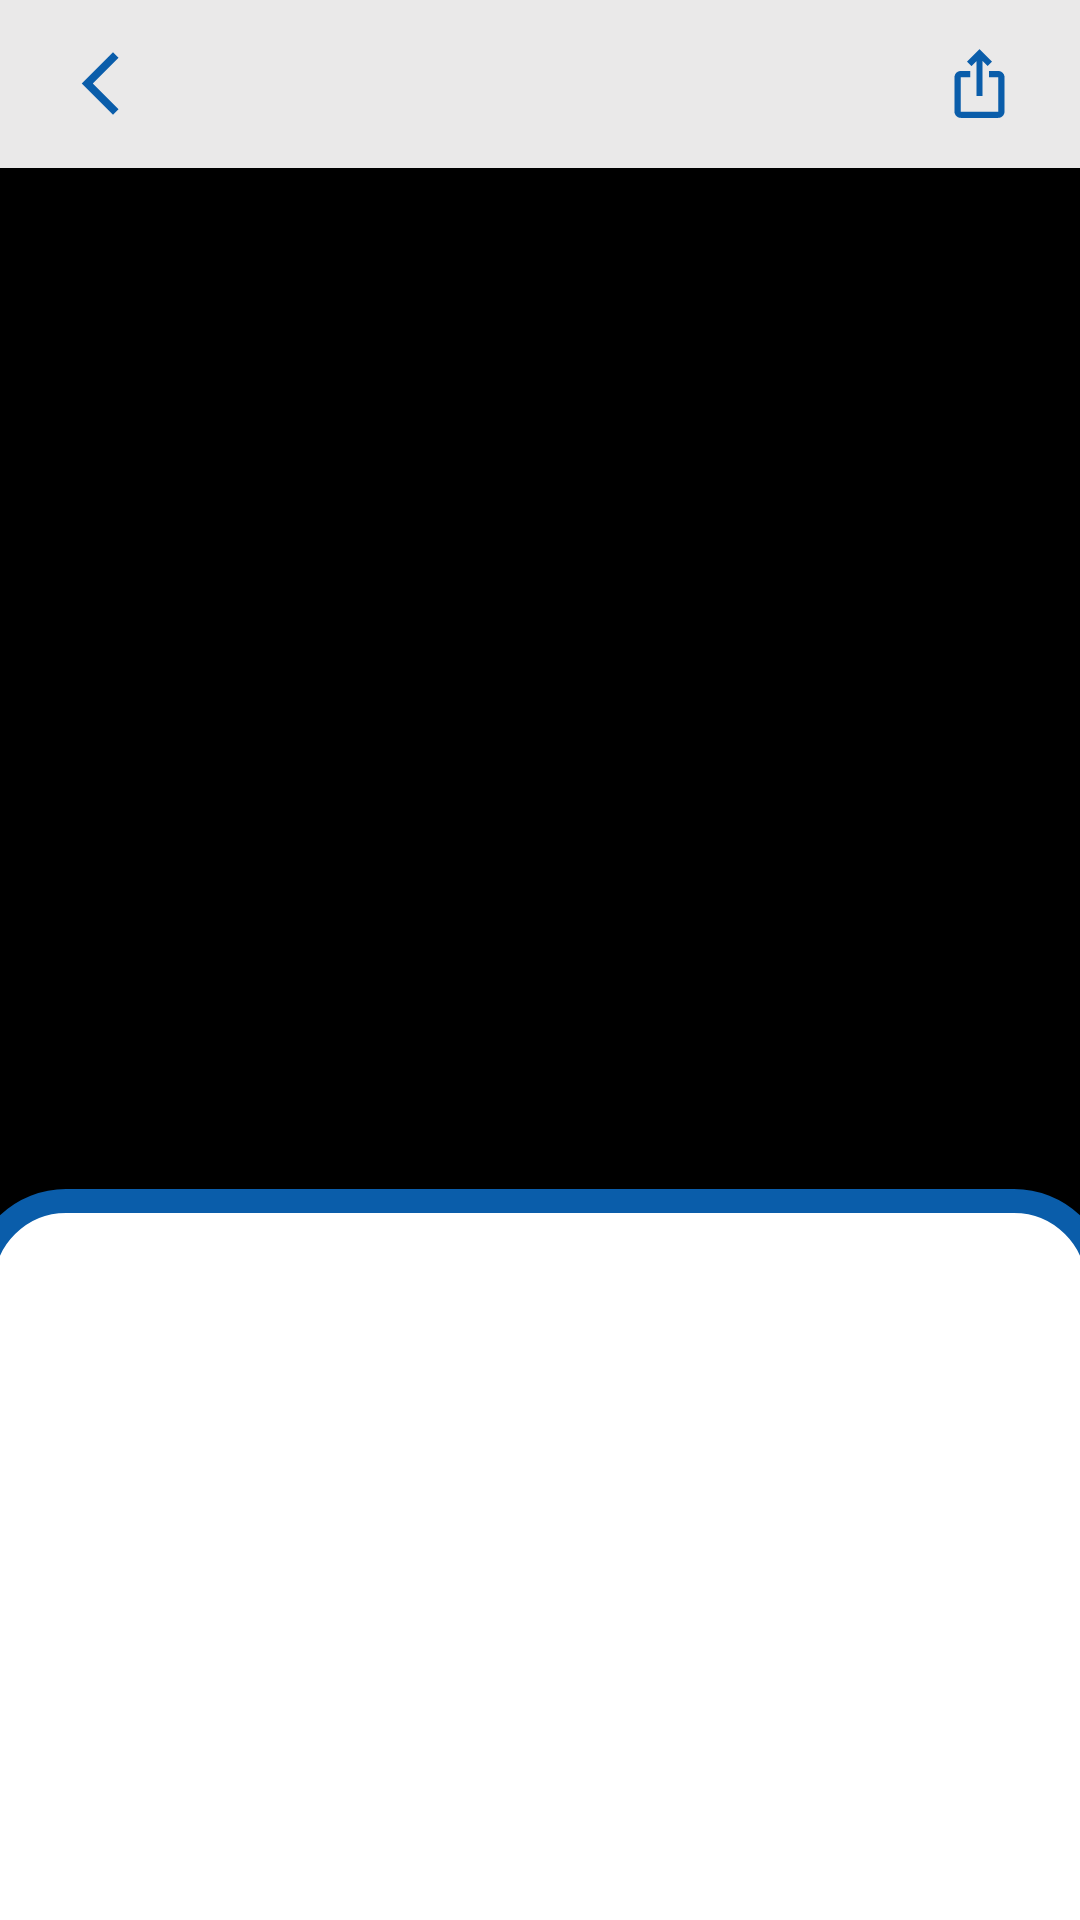

Screen size 1080 x 1920. Icon name, then its center in pixels as [x,y]:
arrow back: [100,83]
share: [979,83]
